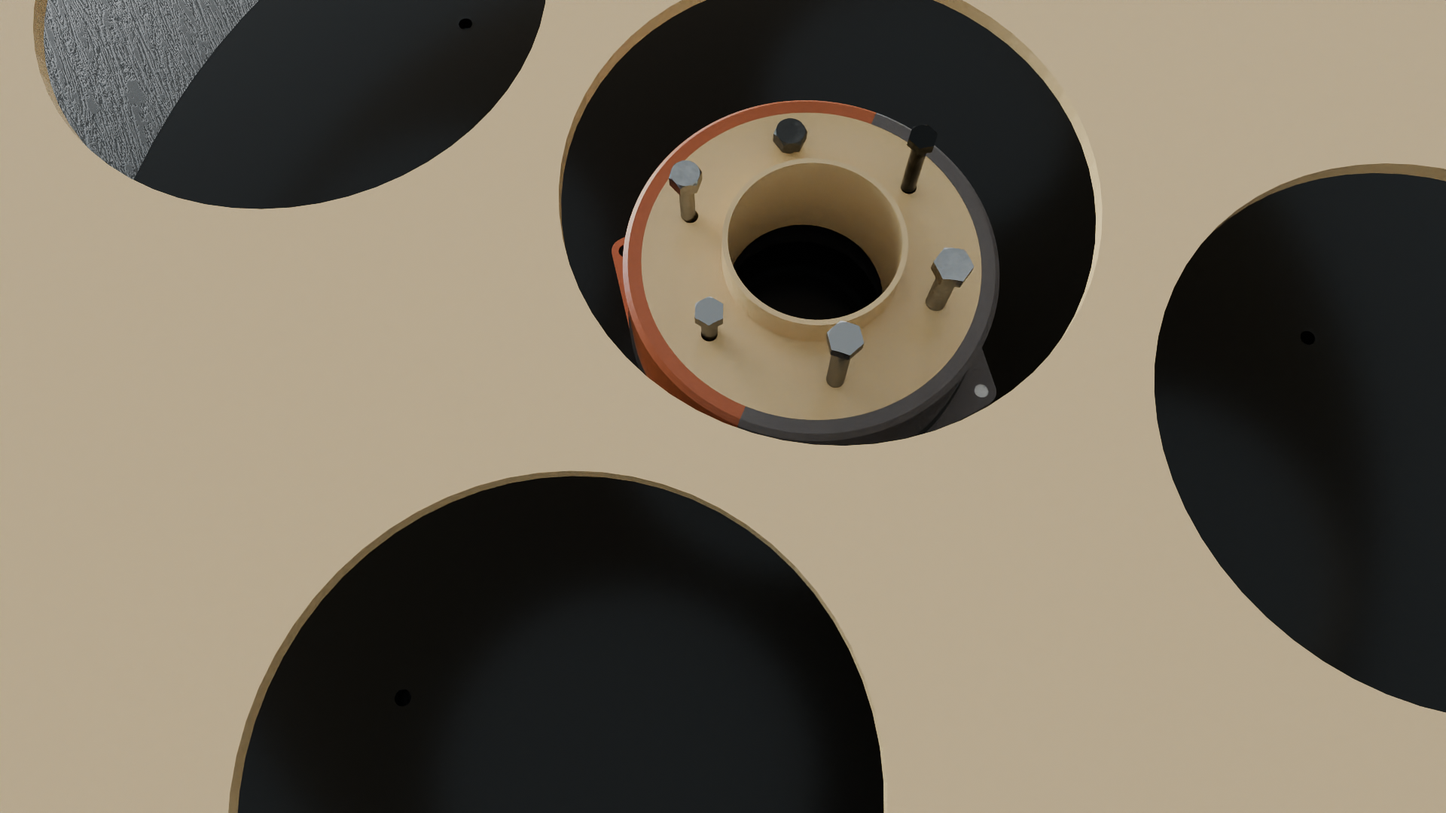bolt: (934, 248, 974, 282), (827, 321, 864, 355), (669, 160, 702, 189), (773, 118, 807, 146), (694, 297, 724, 326), (908, 124, 938, 149)
